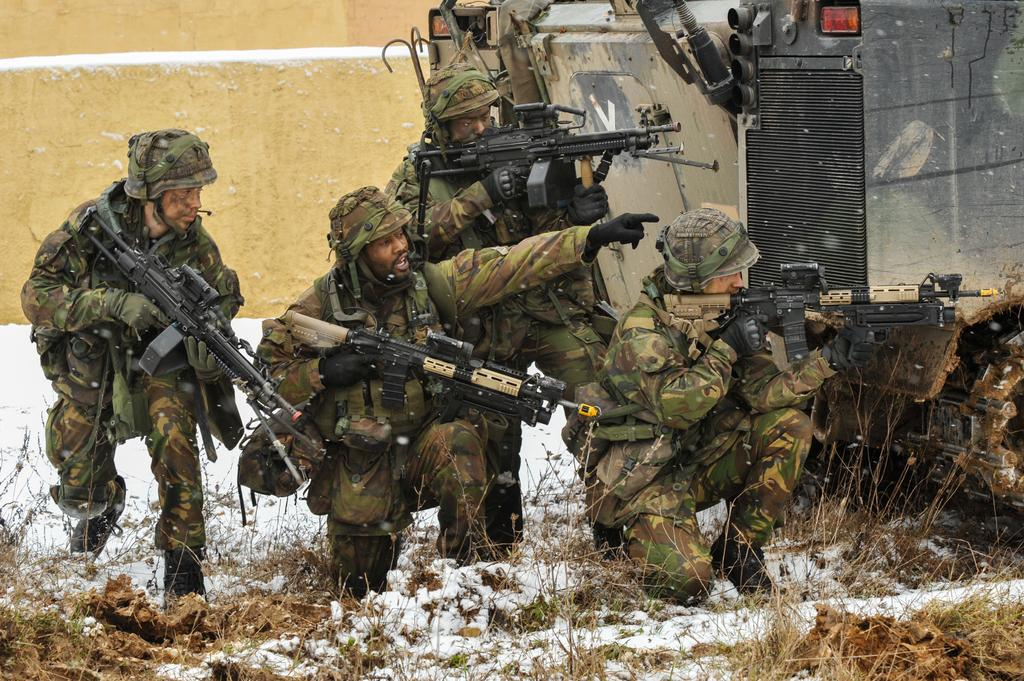Rifle: (85, 205, 308, 490), (373, 93, 717, 230), (657, 253, 1010, 368), (280, 313, 609, 418)
